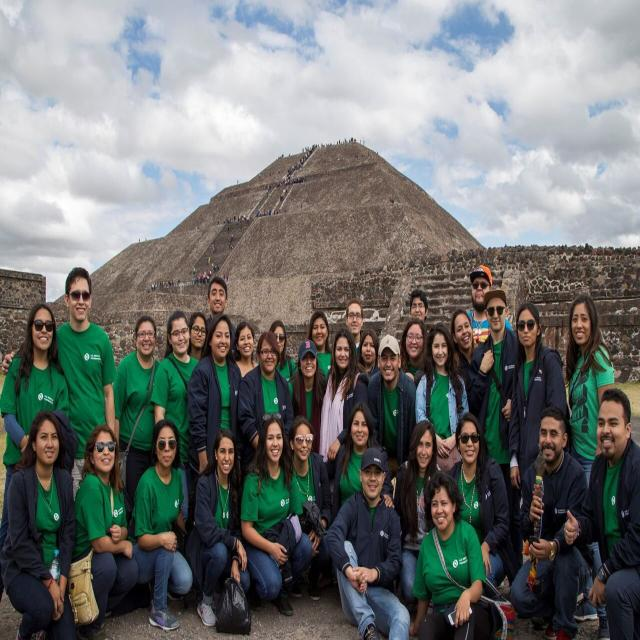body: (133, 132, 369, 293), (1, 266, 117, 503), (0, 302, 72, 604), (562, 386, 640, 639), (508, 402, 589, 639), (0, 408, 76, 639), (323, 443, 411, 639), (468, 286, 524, 568), (239, 410, 314, 618), (567, 296, 615, 620), (70, 423, 140, 640), (408, 470, 494, 640), (126, 418, 194, 632), (184, 425, 252, 630), (447, 412, 517, 601), (185, 311, 243, 526), (508, 301, 568, 490), (150, 310, 200, 528), (113, 314, 163, 530), (320, 327, 370, 513), (393, 419, 440, 602), (328, 400, 396, 526), (288, 416, 332, 602), (237, 330, 295, 463), (414, 322, 470, 459), (367, 333, 417, 464), (287, 338, 329, 455), (466, 264, 514, 354), (201, 275, 239, 356), (267, 318, 299, 408), (295, 309, 333, 380), (397, 316, 431, 388), (229, 319, 261, 379), (450, 309, 480, 369), (343, 298, 365, 356), (187, 312, 210, 360), (358, 328, 380, 378), (409, 289, 429, 324)
